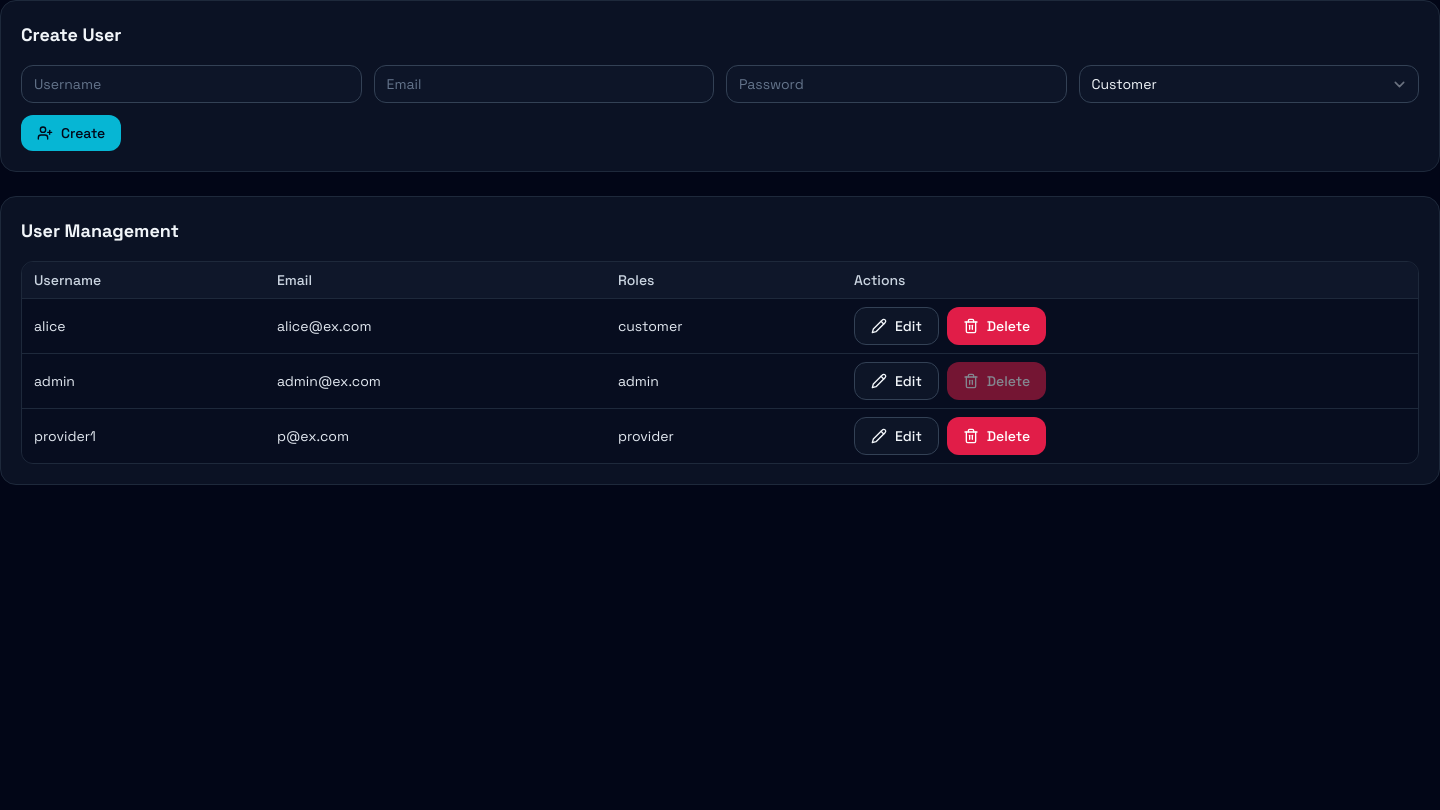
Test: AdminUsersPage › clicking Edit opens edit modal
Expected: the text "alice" is shown, [22,298,265,354]
Step 1. Click the button "Edit" in the row of "alice@ex.com" → (896, 326), box [854,307,939,345]
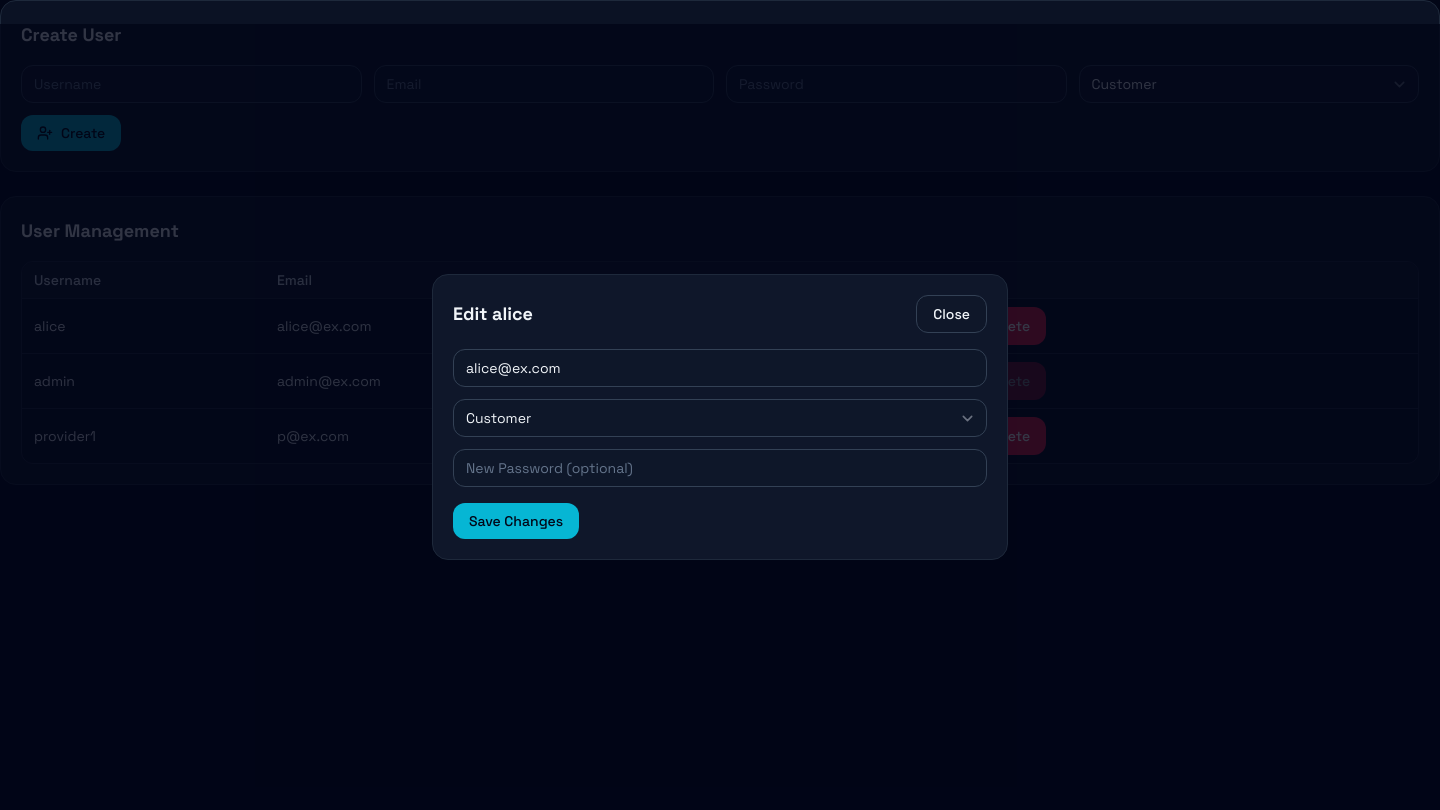
Expected: the button "Save Changes" is shown, [453,503,579,539]
